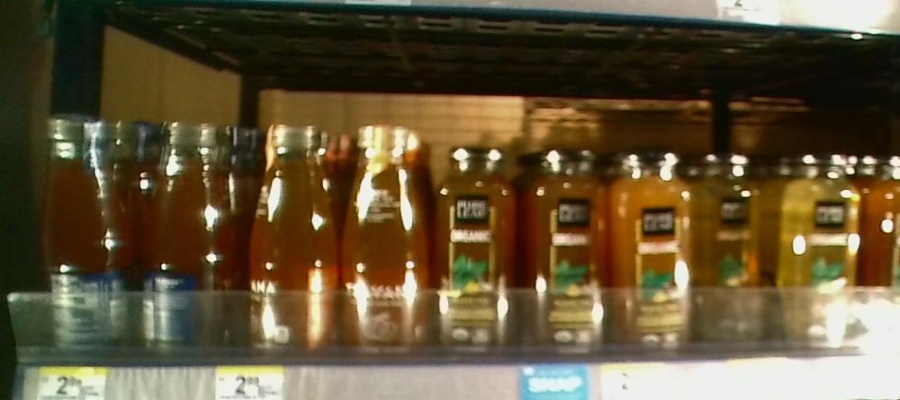bottle: (134, 118, 229, 366), (39, 106, 130, 360), (249, 113, 338, 359), (341, 115, 429, 363), (433, 136, 520, 365), (524, 142, 610, 367), (612, 151, 700, 363), (780, 141, 859, 354), (702, 147, 767, 350)
